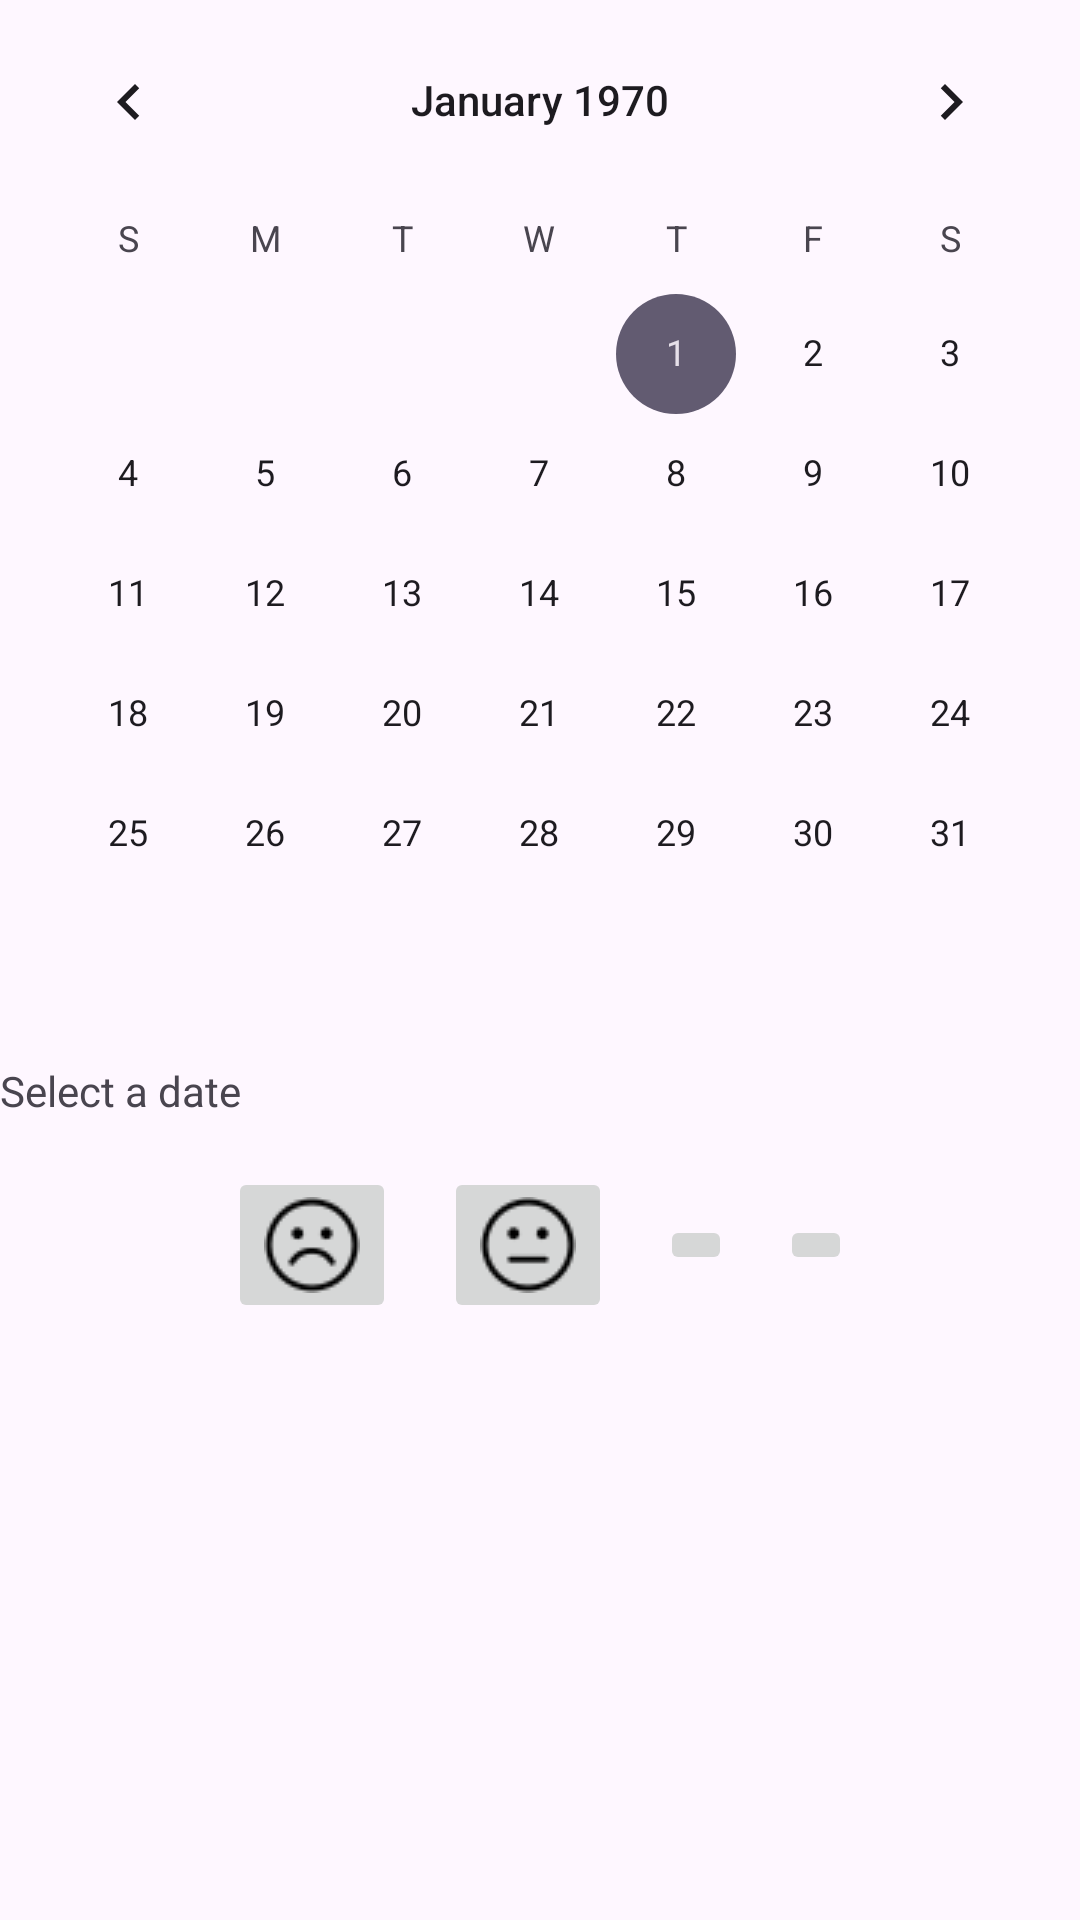

Screen size 1080*1920. Icon name, then its center in pixels as point (x, y):
Neutral: point (528, 1245)
Sad: point (312, 1245)
